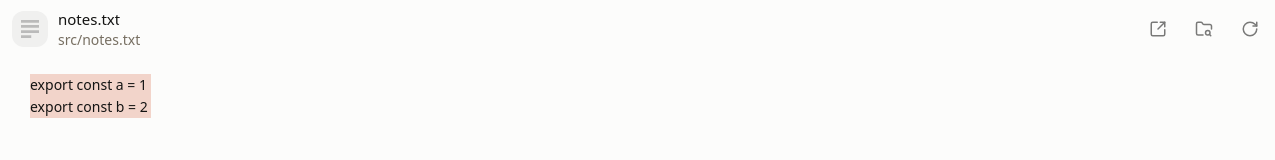
Test: round 53 · 预览标签里选中文字的自绘右键菜单 › 有选区：[添加到上下文（摘选）/ 复制 / 全选]；点摘选发布的路径就是本标签那份文件
The width and height of the screenshot is (1275, 160).
Right-click the element with test id "file-preview-text": [89, 96] box [30, 75, 148, 116]
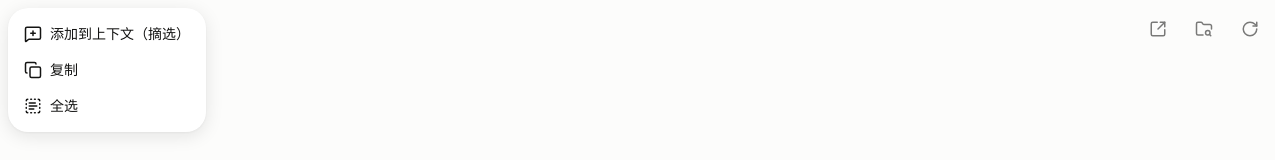
Expected: the menu items read "添加到上下文（摘选）", "复制", "全选", in this order
Click the menu item "添加到上下文（摘选）": [107, 34] box [16, 16, 198, 52]
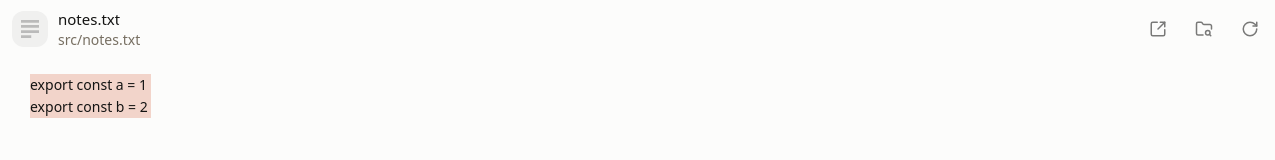
Expected: the text "src/notes.txt" is shown, [58, 30, 140, 49]
Expected: the menu with test id "workbench-context-menu" is gone
